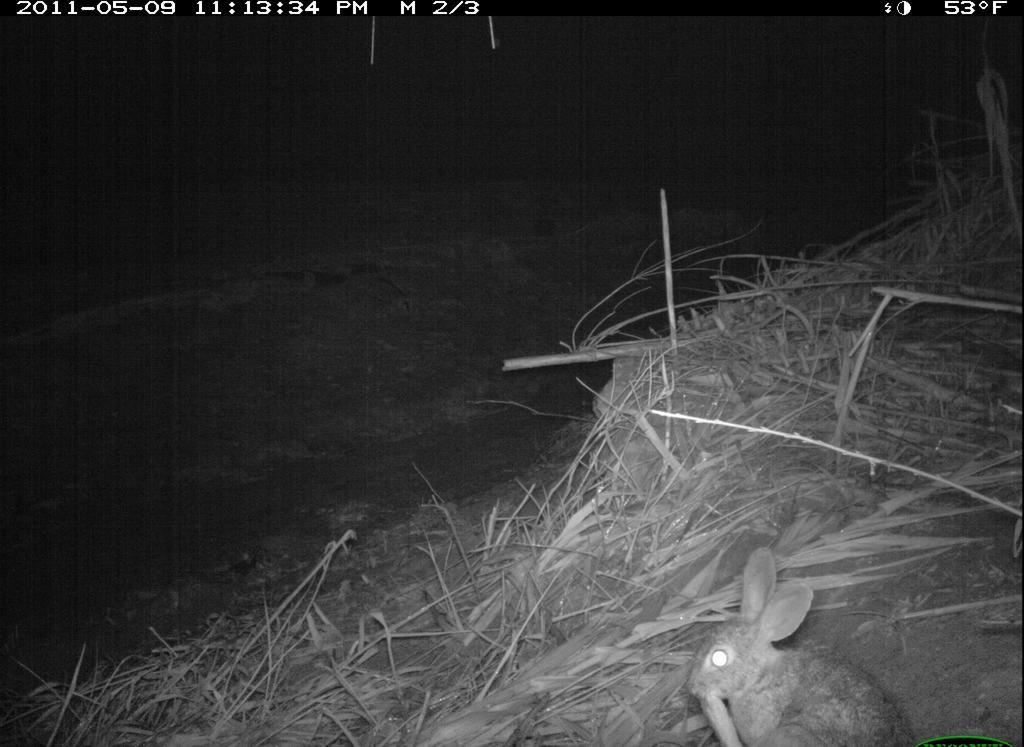rabbit: (679, 542, 920, 747)
